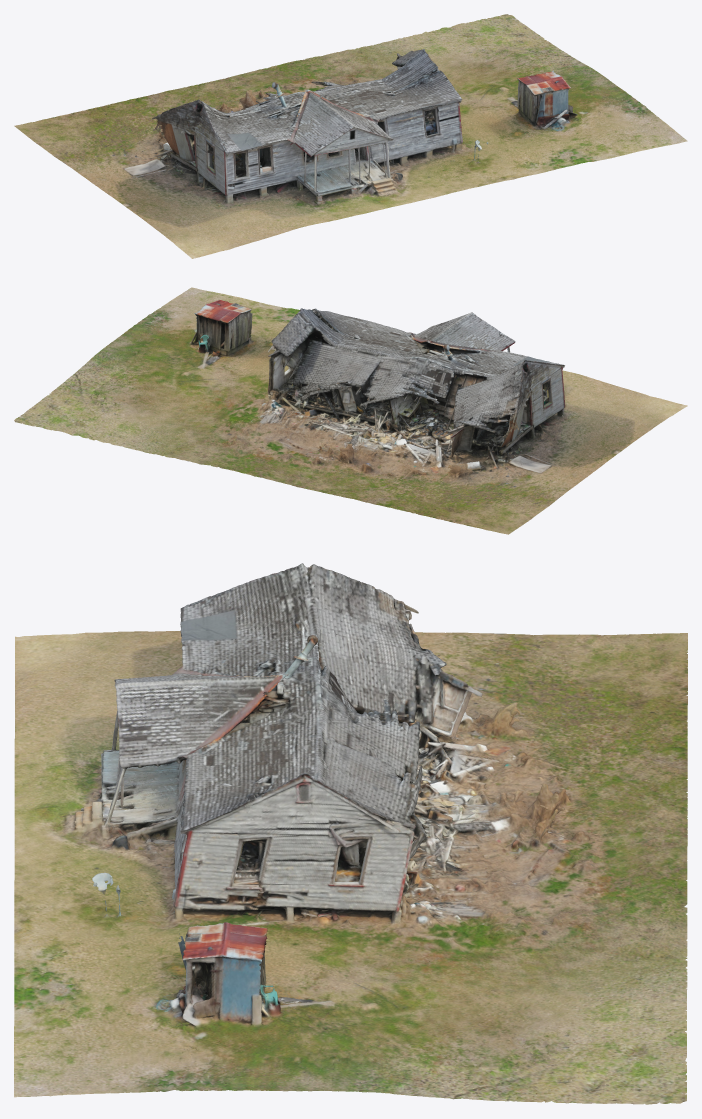
File: abandoned house1.glb
The picture shows the model from 3 angles, top to bottom: view 1: azimuth 30°, elevation 25°; view 2: azimuth 150°, elevation 25°; view 3: azimuth 270°, elevation 25°; orthographic projection. The views are drawn at different scales.
Visible parts, largest first — view 1: Model; view 2: Model; view 3: Model.
Boxes of the visible parts, box(x1,y1,x2,y2) form: Model: box(14, 14, 687, 258); Model: box(14, 287, 687, 534); Model: box(14, 563, 687, 1104).
Size of the model in its own units: 39.06 by 6.92 by 24.43.
1 material, 1 textured.
